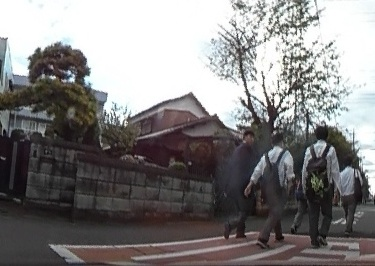person: (303, 123, 333, 250), (258, 133, 291, 235), (228, 128, 257, 234), (338, 159, 365, 232)
